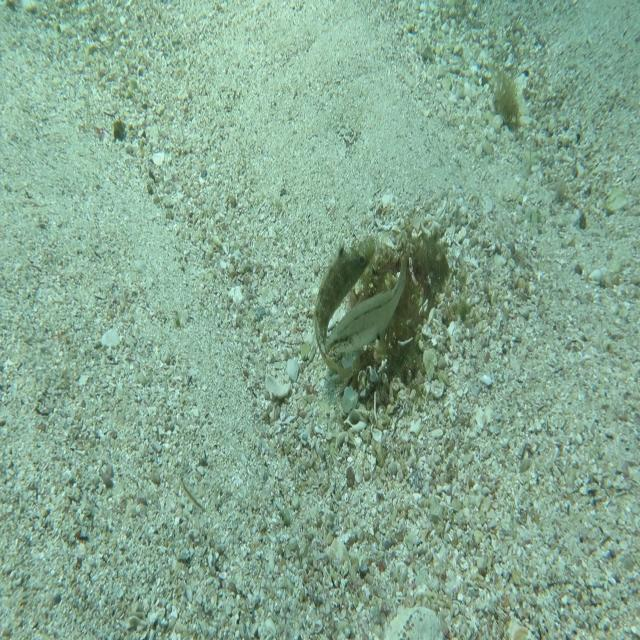DAN_CIRC: (314, 233, 376, 386)
female: (326, 253, 410, 357)
nest: (327, 199, 457, 417)
